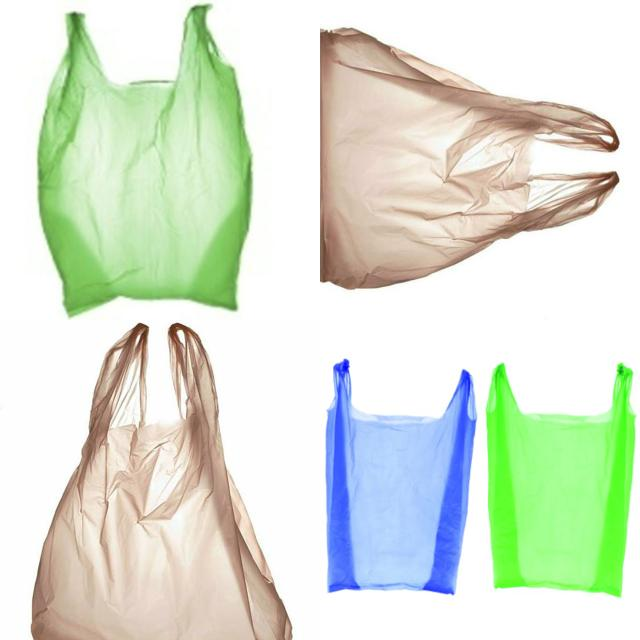Single-layer Plastic: (32, 324, 291, 640), (321, 29, 619, 289), (38, 6, 251, 315), (326, 360, 476, 594), (486, 364, 635, 596)
